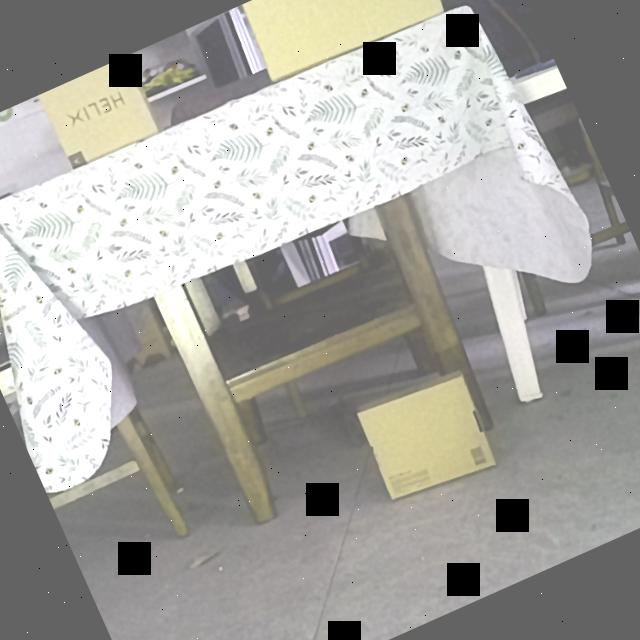box: (355, 372, 498, 508), (239, 0, 445, 85), (39, 56, 159, 169)
